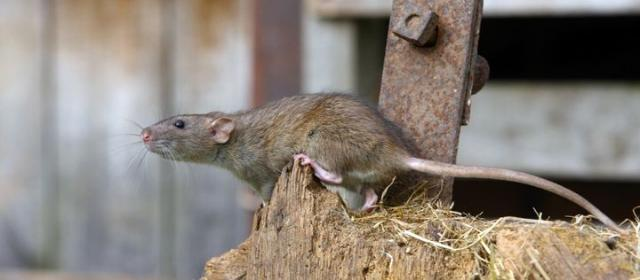rat: (124, 84, 506, 224)
